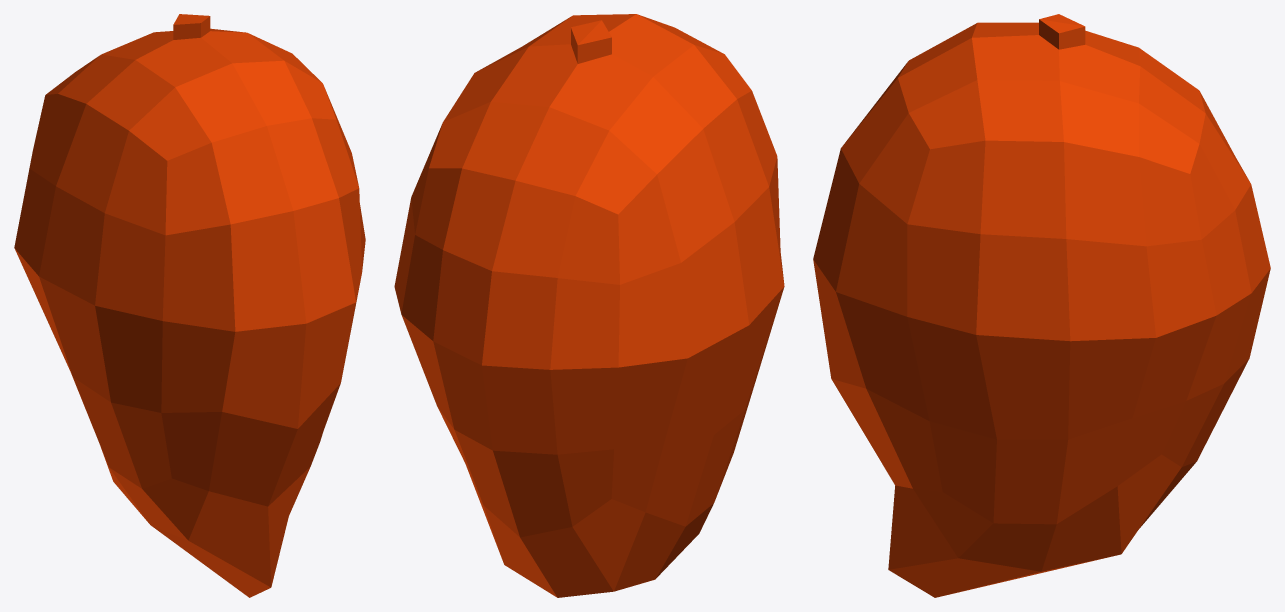
File: mango.fbx
The picture shows the model from 3 angles, left to right: view 1: azimuth 30°, elevation 25°; view 2: azimuth 150°, elevation 25°; view 3: azimuth 270°, elevation 25°; orthographic projection. The views are drawn at different scales.
Parts seen in each view (by area): view 1: Cube; view 2: Cube; view 3: Cube.
Boxes of the visible parts, x1,y1,x2,y2 form: Cube: (14, 14, 365, 597); Cube: (394, 14, 784, 597); Cube: (813, 14, 1270, 597).
Bounding box in the file's own units: 130 × 227 × 162.
